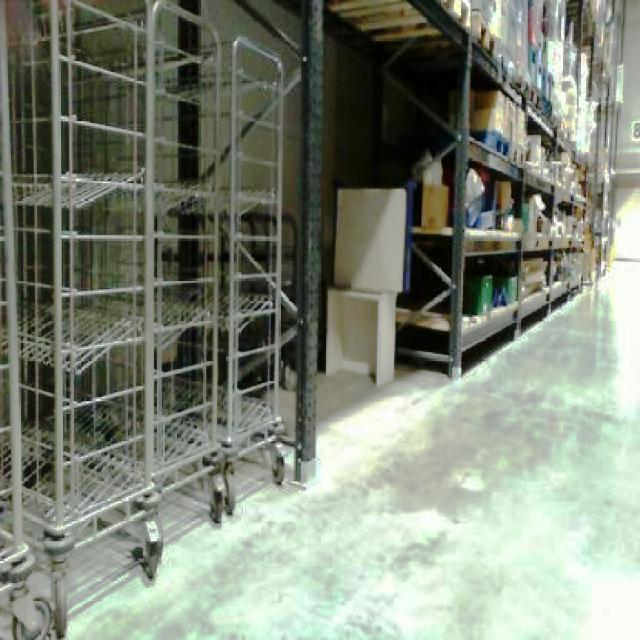ground: (0, 180, 638, 638)
pallet: (322, 0, 625, 385), (322, 183, 408, 388)
